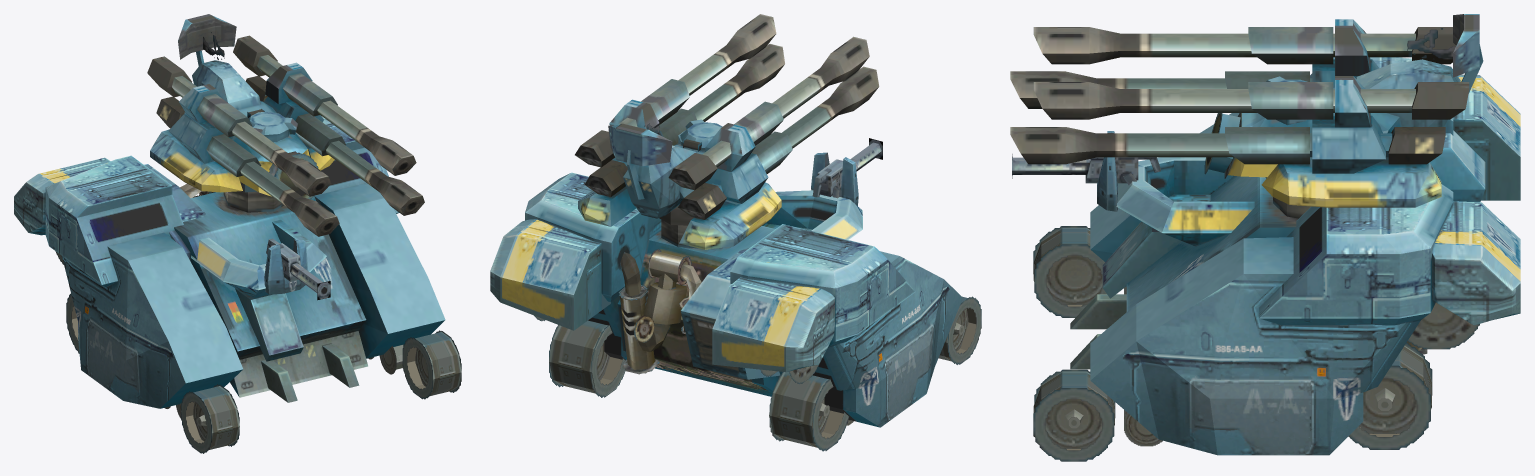
The model's file is VXAAH.obj.
3 views of the same model, side by side, from view 1: azimuth 30°, elevation 25°; view 2: azimuth 150°, elevation 25°; view 3: azimuth 270°, elevation 25° (orthographic). The views are drawn at different scales.
Visible parts, largest first — view 1: Node 0, Node 17, Node 24, Node 22, Node 20, Node 26, Node 2, Node 9, Node 35, Node 36, Node 37, Node 6 (+1 smaller); view 2: Node 0, Node 17, Node 20, Node 22, Node 24, Node 15, Node 26, Node 8, Node 35, Node 9, Node 37, Node 36; view 3: Node 0, Node 26, Node 17, Node 24, Node 20, Node 35, Node 2, Node 8, Node 9, Node 22, Node 37, Node 3 (+2 smaller).
Part boxes in pixels (<box>): Node 0: <box>14,116,445,408</box>; Node 17: <box>150,14,334,199</box>; Node 24: <box>233,35,416,175</box>; Node 22: <box>156,96,339,236</box>; Node 20: <box>147,56,331,196</box>; Node 26: <box>245,76,424,215</box>; Node 2: <box>402,330,461,399</box>; Node 9: <box>181,384,239,453</box>; Node 35: <box>191,220,326,298</box>; Node 36: <box>264,239,308,294</box>; Node 37: <box>266,238,330,300</box>; Node 6: <box>379,345,403,374</box>; Node 0: <box>490,172,962,427</box>; Node 17: <box>578,119,781,249</box>; Node 20: <box>668,36,869,190</box>; Node 22: <box>678,66,879,219</box>; Node 24: <box>575,14,776,167</box>; Node 15: <box>769,371,848,451</box>; Node 26: <box>584,44,784,197</box>; Node 8: <box>549,320,625,397</box>; Node 35: <box>762,190,862,239</box>; Node 9: <box>938,296,981,364</box>; Node 37: <box>812,138,882,197</box>; Node 36: <box>810,152,858,220</box>; Node 0: <box>1070,57,1520,455</box>; Node 26: <box>1010,115,1445,173</box>; Node 17: <box>1204,14,1483,207</box>; Node 24: <box>1033,76,1469,127</box>; Node 20: <box>1033,19,1455,75</box>; Node 35: <box>1116,157,1254,246</box>; Node 2: <box>1033,369,1115,461</box>; Node 8: <box>1348,342,1432,449</box>; Node 9: <box>1033,226,1106,317</box>; Node 22: <box>1010,59,1378,108</box>; Node 37: <box>1012,154,1160,183</box>; Node 3: <box>1408,302,1479,349</box>.
Size of what is drawn, in the model's own units: 5.32 by 4.81 by 5.9.
38 materials, 38 textured.
